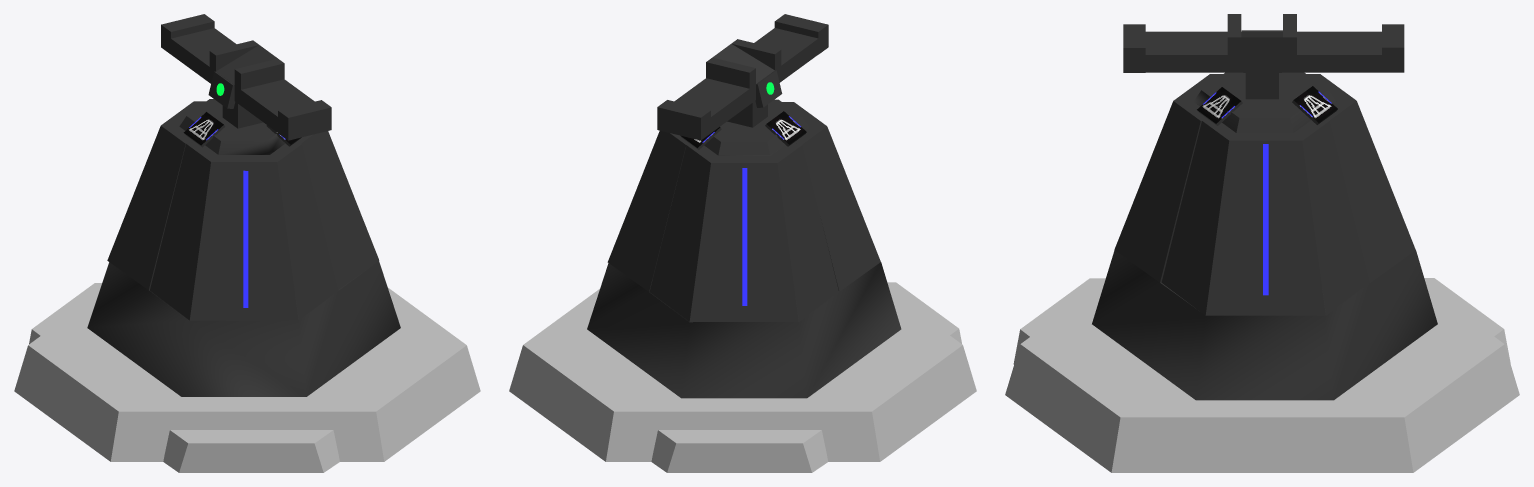
Rendered from base-blue.glb.
The picture shows the model from 3 angles, left to right: view 1: azimuth 30°, elevation 25°; view 2: azimuth 150°, elevation 25°; view 3: azimuth 270°, elevation 25°; orthographic projection. The views are drawn at different scales.
Parts seen in each view (by area): view 1: 立方体, 2, 立方体.002, 1, 3, 立方体.011, 立方体.012, 立方体.014, 立方体.013, 立方体.015, 立方体.010, 立方体.007 (+2 smaller); view 2: 立方体, 1, 立方体.002, 2, 3, 立方体.011, 立方体.013, 立方体.010, 立方体.012, 立方体.015, 立方体.014, 立方体.007 (+2 smaller); view 3: 立方体, 立方体.002, 3, 立方体.011, 2, 1, 立方体.012, 立方体.015, 立方体.013, 立方体.008, 立方体.003, 立方体.001 (+2 smaller).
Boxes of the visible parts, bbox=[...] form: 立方体: bbox=[14, 283, 480, 472]; 2: bbox=[150, 141, 338, 320]; 立方体.002: bbox=[87, 99, 400, 396]; 1: bbox=[107, 101, 205, 289]; 3: bbox=[296, 131, 379, 289]; 立方体.011: bbox=[171, 28, 314, 135]; 立方体.012: bbox=[278, 100, 331, 140]; 立方体.014: bbox=[234, 59, 284, 89]; 立方体.013: bbox=[161, 14, 214, 54]; 立方体.015: bbox=[216, 45, 277, 84]; 立方体.010: bbox=[209, 40, 258, 71]; 立方体.007: bbox=[183, 112, 225, 147]; 立方体: bbox=[509, 282, 976, 472]; 1: bbox=[649, 142, 838, 321]; 立方体.002: bbox=[587, 99, 901, 398]; 2: bbox=[782, 102, 880, 291]; 3: bbox=[607, 130, 689, 291]; 立方体.011: bbox=[674, 28, 818, 132]; 立方体.013: bbox=[657, 100, 710, 140]; 立方体.010: bbox=[706, 57, 755, 88]; 立方体.012: bbox=[774, 14, 828, 54]; 立方体.015: bbox=[712, 43, 774, 83]; 立方体.014: bbox=[731, 39, 781, 69]; 立方体.007: bbox=[765, 111, 806, 146]; 立方体: bbox=[1005, 278, 1519, 472]; 立方体.002: bbox=[1092, 72, 1437, 400]; 3: bbox=[1161, 119, 1369, 315]; 立方体.011: bbox=[1133, 31, 1391, 72]; 2: bbox=[1114, 74, 1222, 282]; 1: bbox=[1307, 74, 1415, 282]; 立方体.012: bbox=[1123, 24, 1145, 72]; 立方体.015: bbox=[1241, 31, 1282, 54]; 立方体.013: bbox=[1382, 24, 1404, 72]; 立方体.008: bbox=[1245, 72, 1278, 99]; 立方体.003: bbox=[1292, 86, 1337, 124]; 立方体.001: bbox=[1197, 87, 1242, 125].
Bounding box in the file's own units: 1.61 × 1.43 × 1.86.
Materials: 7 (1 with a texture image).
